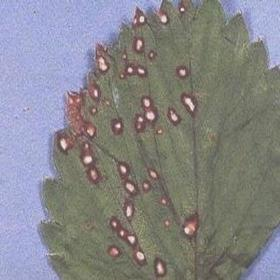Leaf Spot: (38, 0, 279, 279)
